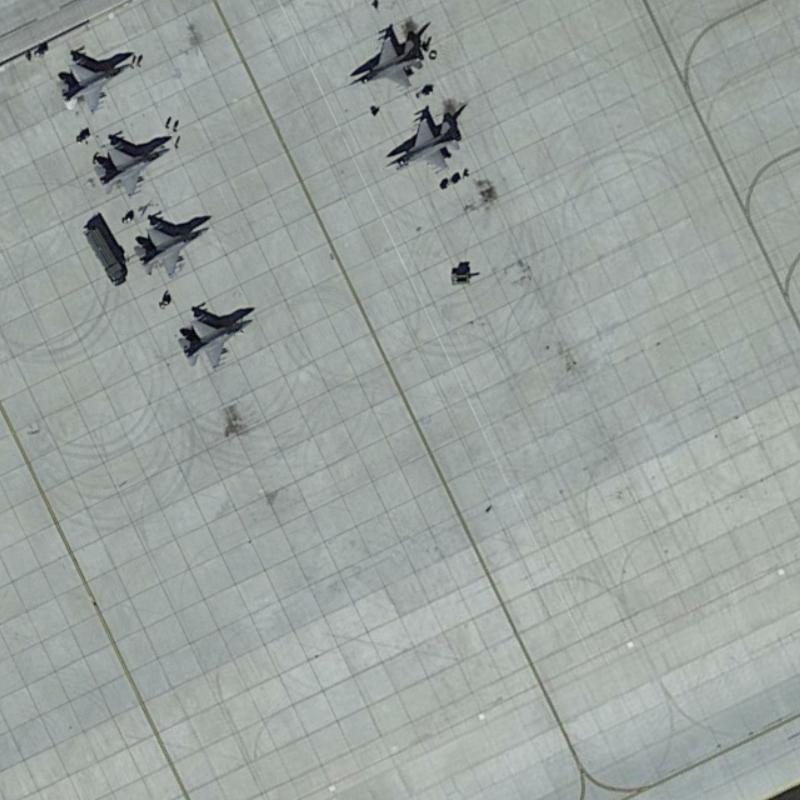A5: (381, 114, 463, 174), (341, 34, 426, 91), (131, 221, 212, 279), (57, 60, 137, 118), (174, 316, 254, 373), (87, 145, 172, 197)
